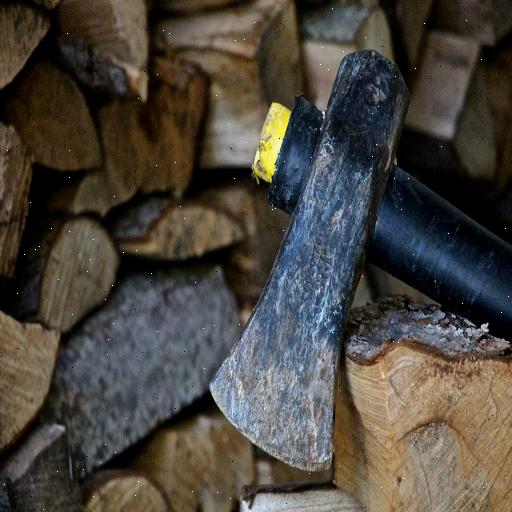Axe: (205, 42, 512, 473)
